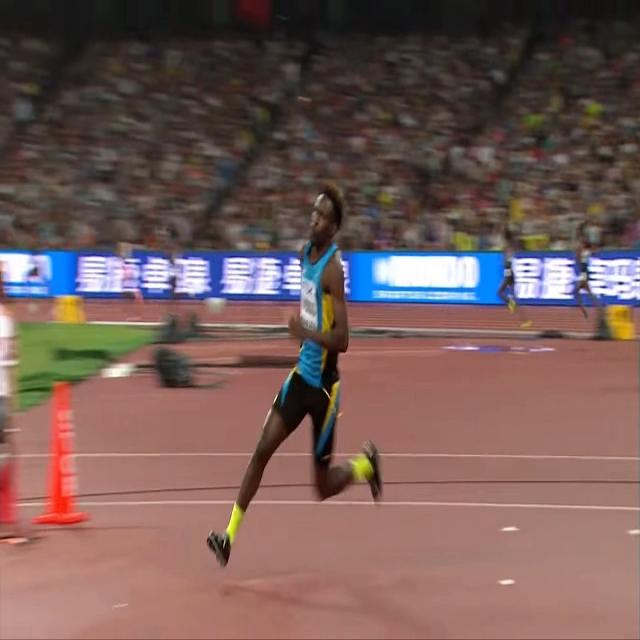run: (206, 182, 382, 564)
